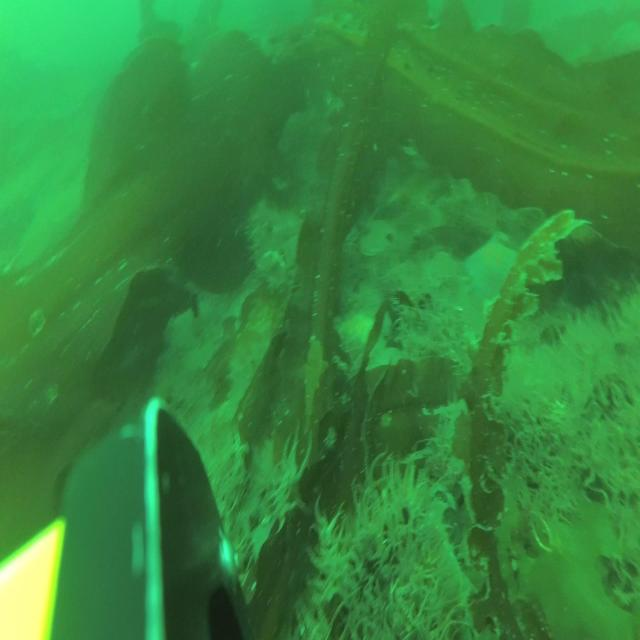starfish: (466, 233, 520, 298)
